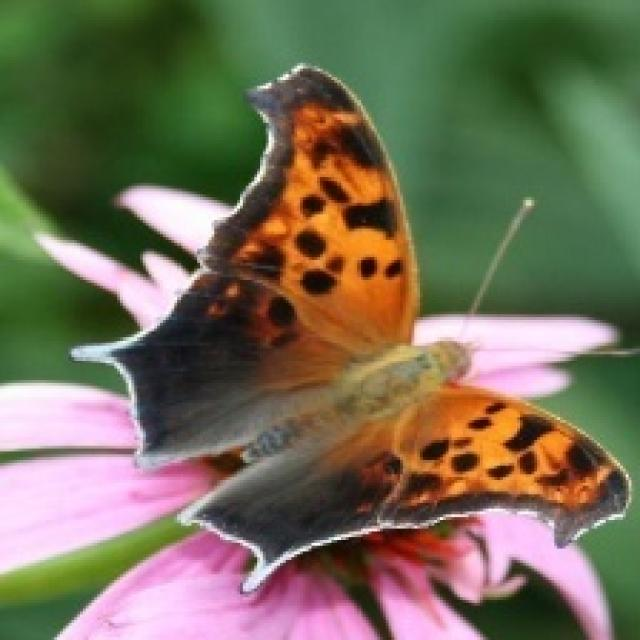butterfly: (72, 62, 628, 591)
